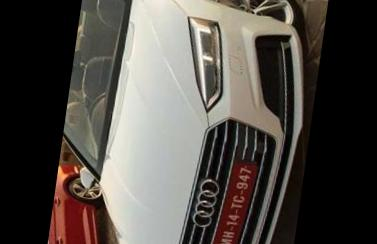plate: (197, 142, 268, 244)
